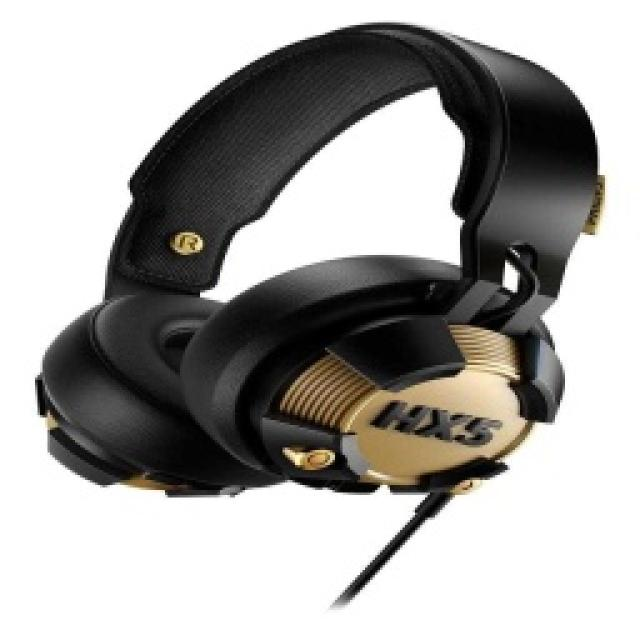headphones: (33, 18, 605, 500)
